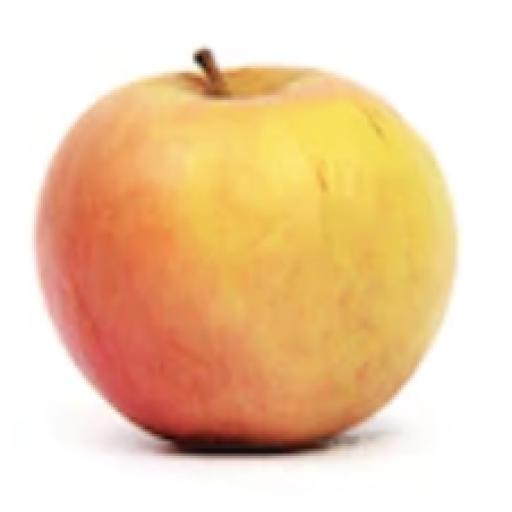apple: (37, 52, 455, 448)
